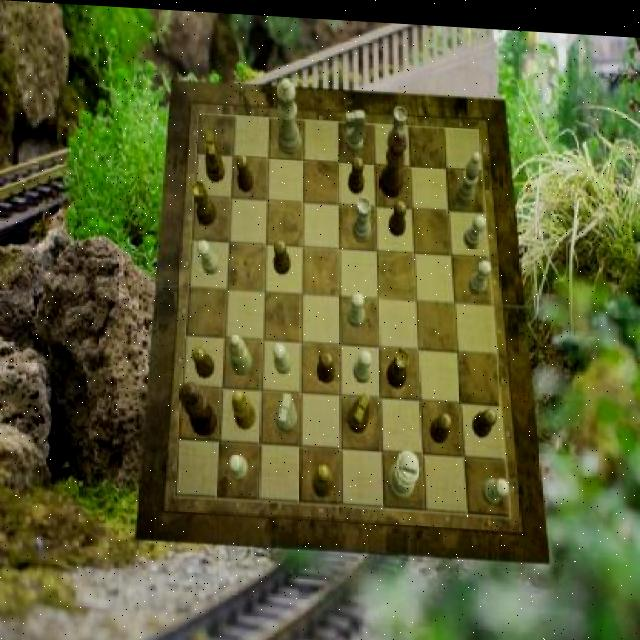bishop: (232, 388, 256, 427), (312, 459, 332, 494)
black-bishop: (180, 379, 217, 435)
black-king: (204, 130, 224, 181), (346, 389, 369, 430)
black-knight: (472, 402, 497, 434), (191, 344, 214, 376), (236, 151, 254, 190), (430, 408, 451, 440), (272, 236, 290, 271), (389, 195, 406, 232), (348, 151, 364, 190), (318, 347, 335, 380)
black-pawn: (379, 124, 406, 194)
black-queen: (191, 178, 215, 225), (386, 342, 409, 384)
black-rook: (455, 146, 480, 202), (230, 332, 252, 373)
white-bishop: (387, 446, 420, 498)
white-king: (344, 105, 364, 150), (275, 390, 297, 429)
white-knight: (468, 254, 490, 291), (196, 237, 219, 272), (463, 209, 486, 244), (480, 472, 508, 499), (353, 345, 372, 380), (347, 289, 365, 325), (273, 339, 292, 372), (229, 451, 246, 479)
white-pawn: (275, 75, 300, 153)
white-queen: (386, 101, 406, 150), (352, 192, 371, 239)
